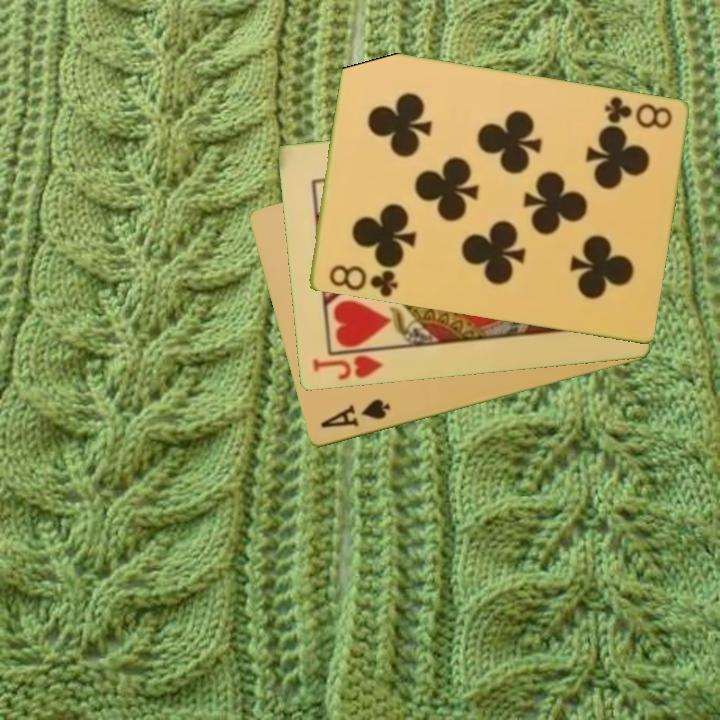8c: (600, 93, 675, 132), (325, 262, 400, 299)
As: (316, 396, 393, 432)
Jh: (308, 352, 386, 384)
